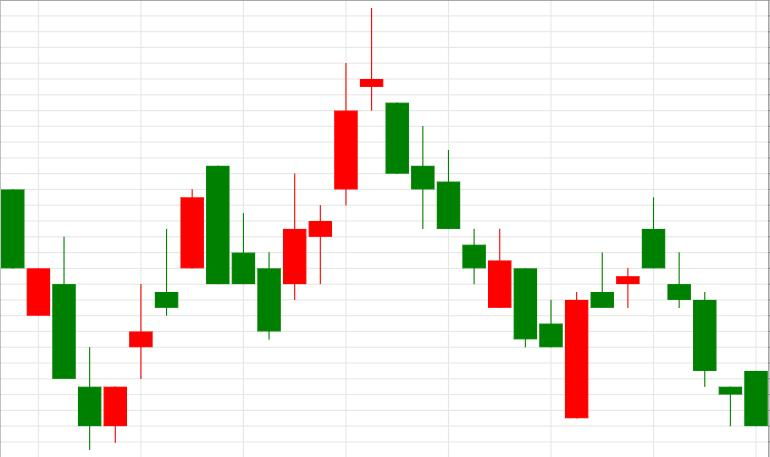bullish_engulfing_rise: (386, 103, 588, 419)
evening_star_fall: (104, 8, 408, 443)
